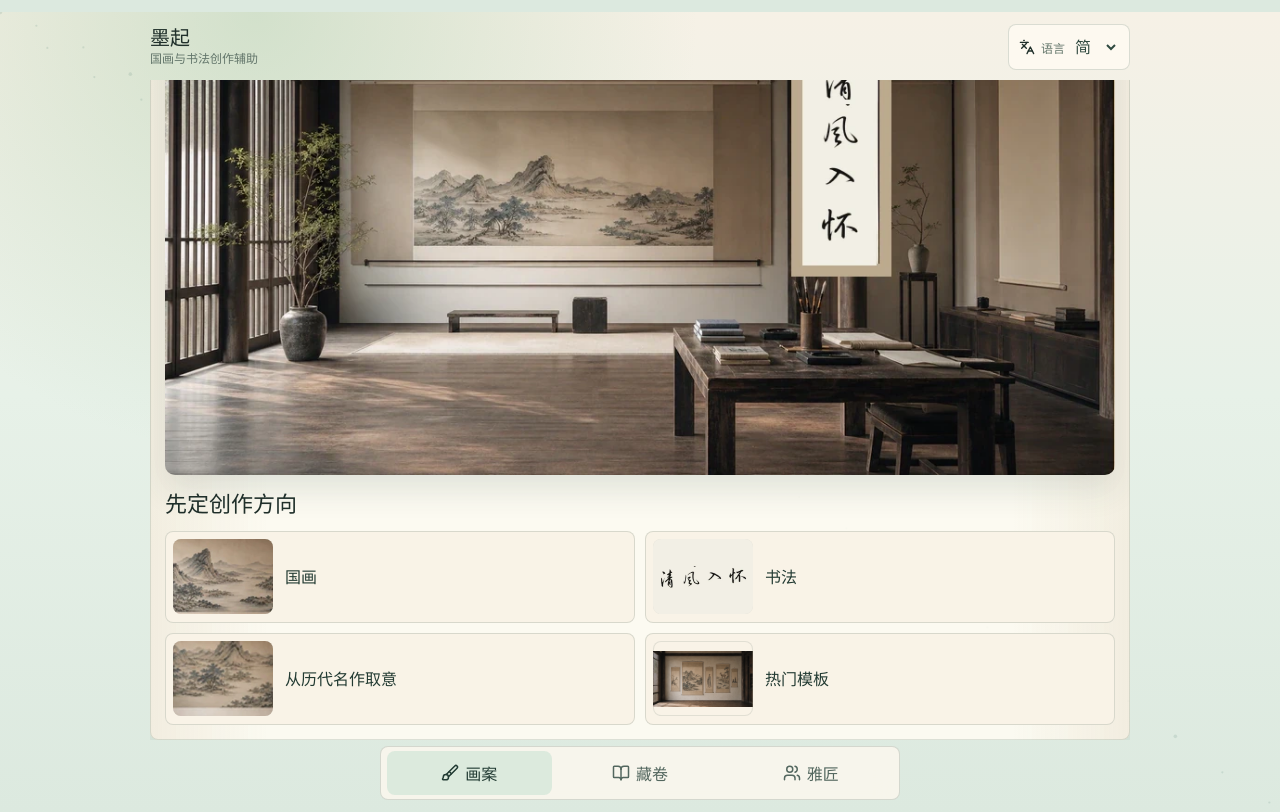
App › uses source notes instead of pseudo-calligraphy preview images
This screenshot has width=1280, height=812.
(page scrolled)
Step 1. Click the button "书法" → (703, 577), box top-left (645, 531), bottom-right (1115, 623)
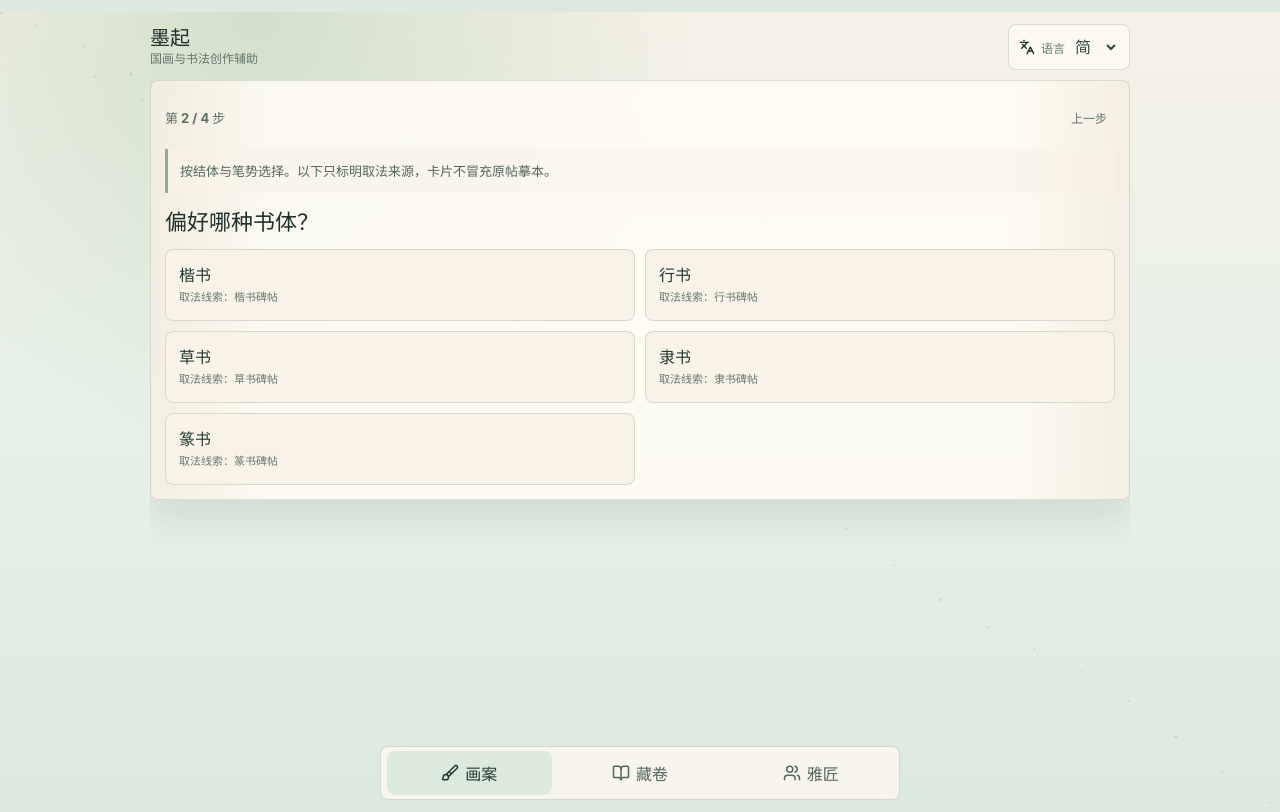
Expected: the heading "偏好哪种书体？" is shown, top-left (165, 209), bottom-right (319, 235)
Expected: no pictures with class "option-preview-image" are shown
Expected: the text "取法线索" is shown 5 times, top-left (179, 290), bottom-right (278, 304); top-left (659, 290), bottom-right (758, 304); top-left (179, 372), bottom-right (278, 386); top-left (659, 372), bottom-right (758, 386); top-left (179, 454), bottom-right (278, 468)
